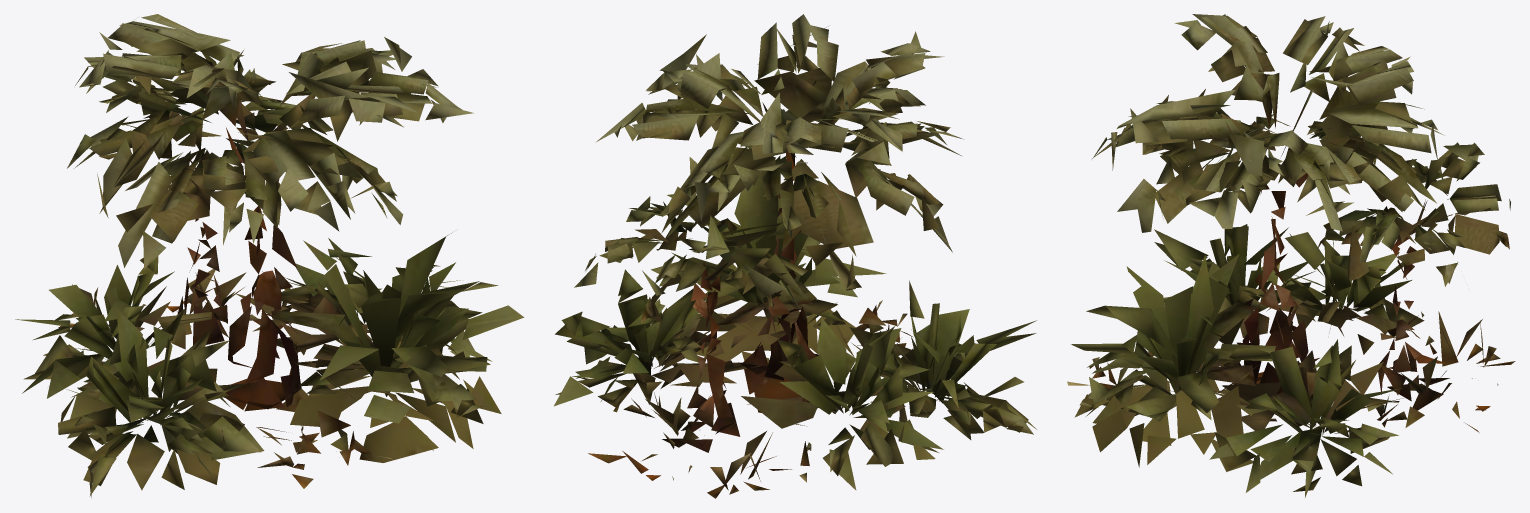
The model's file is jun_fern_cluster_tree_fern_LOD3.glb.
3 views of the same model, side by side, from view 1: azimuth 30°, elevation 25°; view 2: azimuth 150°, elevation 25°; view 3: azimuth 270°, elevation 25° (orthographic). The views are drawn at different scales.
Parts seen in each view (by area): view 1: tripo_node_423479ea-ce77-42fe-a1a3-5ccf0479997e; view 2: tripo_node_423479ea-ce77-42fe-a1a3-5ccf0479997e; view 3: tripo_node_423479ea-ce77-42fe-a1a3-5ccf0479997e.
Part boxes in pixels (bbox=[...]): tripo_node_423479ea-ce77-42fe-a1a3-5ccf0479997e: bbox=[15, 14, 524, 497]; tripo_node_423479ea-ce77-42fe-a1a3-5ccf0479997e: bbox=[554, 14, 1036, 498]; tripo_node_423479ea-ce77-42fe-a1a3-5ccf0479997e: bbox=[1067, 14, 1515, 497].
Bounding box in the file's own units: 0.9925 × 0.8488 × 0.9844.
1 material, 1 textured.
